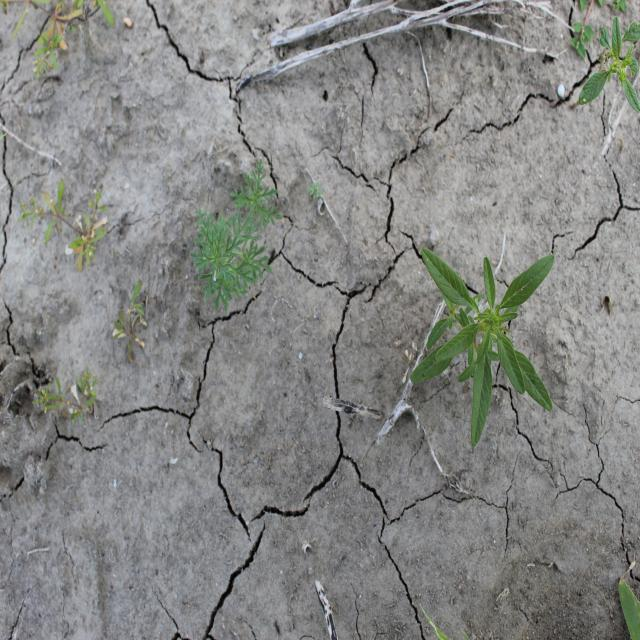Carpetweed: (0, 0, 117, 83), (14, 180, 111, 272), (107, 274, 151, 376), (29, 364, 101, 424)
Ragweed: (189, 158, 284, 312)
Waterhemp: (409, 245, 556, 448), (578, 15, 639, 116)
